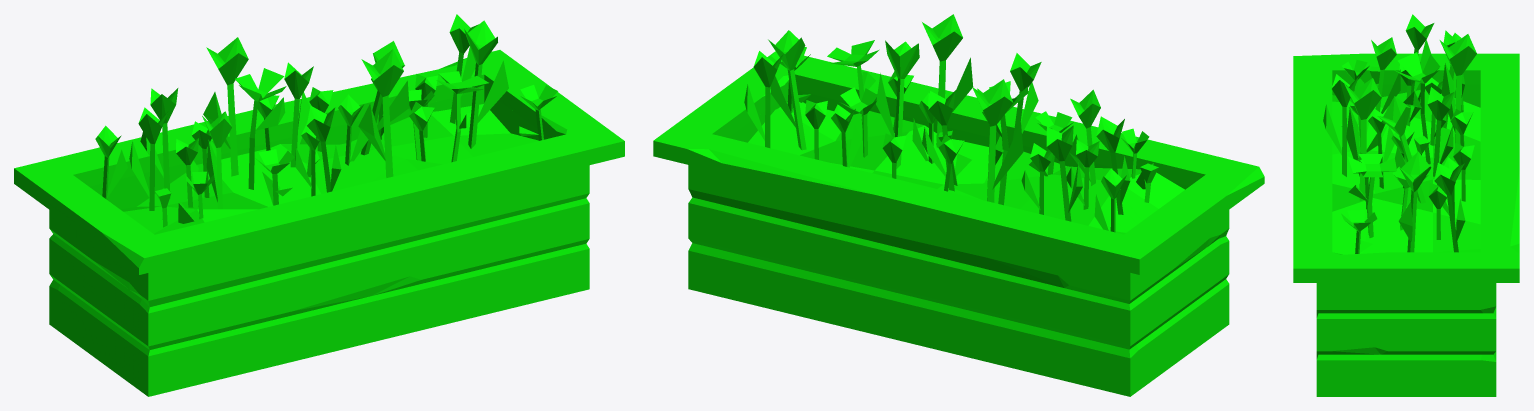
Rendered from SM_Flower_Box_Wooden_Wide_Street_A_Fantasy.fbx.
3 renders of one model, left to right at view 1: azimuth 30°, elevation 25°; view 2: azimuth 150°, elevation 25°; view 3: azimuth 270°, elevation 25°, orthographic. The views are drawn at different scales.
Parts seen in each view (by area): view 1: flower-box-wooden-wide-street-a-fantasy; view 2: flower-box-wooden-wide-street-a-fantasy; view 3: flower-box-wooden-wide-street-a-fantasy.
Part boxes in pixels (left/top/right/bottom): flower-box-wooden-wide-street-a-fantasy: left=14, top=14, right=624, bottom=396; flower-box-wooden-wide-street-a-fantasy: left=653, top=14, right=1264, bottom=396; flower-box-wooden-wide-street-a-fantasy: left=1293, top=14, right=1519, bottom=396.
Bounding box in the file's own units: 1.3 × 0.6608 × 0.5791.
